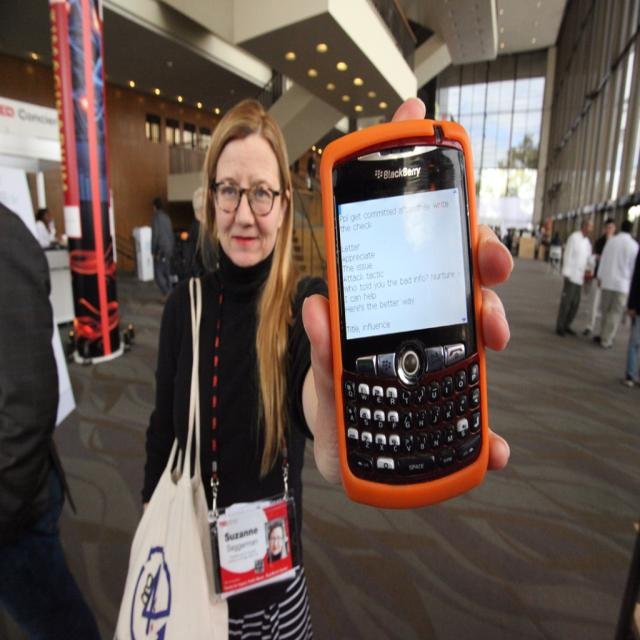Mobile-phone: (318, 114, 490, 512)
